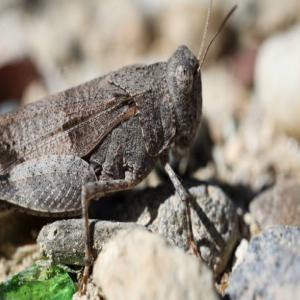locust: (1, 22, 219, 230)
